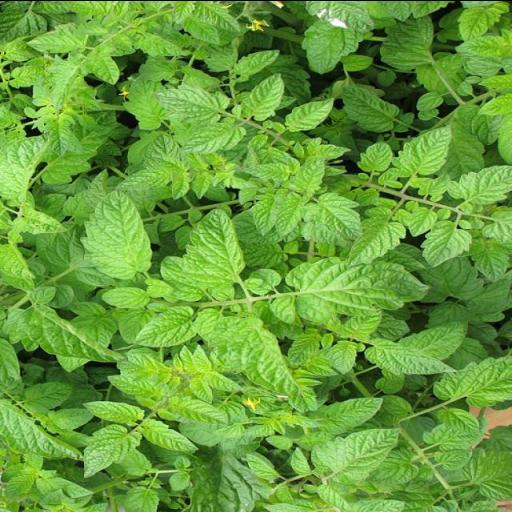Healthy: (286, 254, 432, 324), (208, 315, 304, 395), (1, 304, 125, 360), (79, 190, 154, 276), (180, 207, 246, 291), (0, 397, 84, 461), (310, 426, 402, 484), (364, 338, 460, 374), (344, 214, 406, 268), (148, 84, 230, 124), (82, 424, 142, 478), (392, 124, 455, 174), (302, 191, 364, 240), (398, 317, 470, 359), (309, 395, 384, 433), (340, 85, 399, 132), (132, 304, 196, 346), (448, 162, 512, 204), (420, 219, 474, 267), (160, 254, 206, 302), (238, 71, 284, 119), (136, 416, 200, 450), (179, 122, 247, 154), (18, 380, 78, 414), (166, 394, 230, 424), (250, 186, 288, 236), (456, 5, 506, 41), (26, 26, 90, 54), (282, 98, 334, 130), (40, 112, 77, 155), (272, 190, 305, 238), (105, 372, 165, 398), (284, 326, 323, 366), (112, 166, 172, 190), (82, 400, 146, 422), (288, 156, 326, 192), (325, 338, 361, 374), (132, 31, 183, 56), (432, 406, 480, 432), (232, 48, 280, 74), (180, 15, 220, 43), (86, 52, 122, 83), (101, 286, 150, 308), (454, 34, 506, 54), (405, 206, 438, 237), (356, 142, 392, 170), (434, 448, 476, 470), (244, 162, 290, 182), (416, 172, 452, 194), (290, 446, 310, 474), (416, 92, 444, 110)
